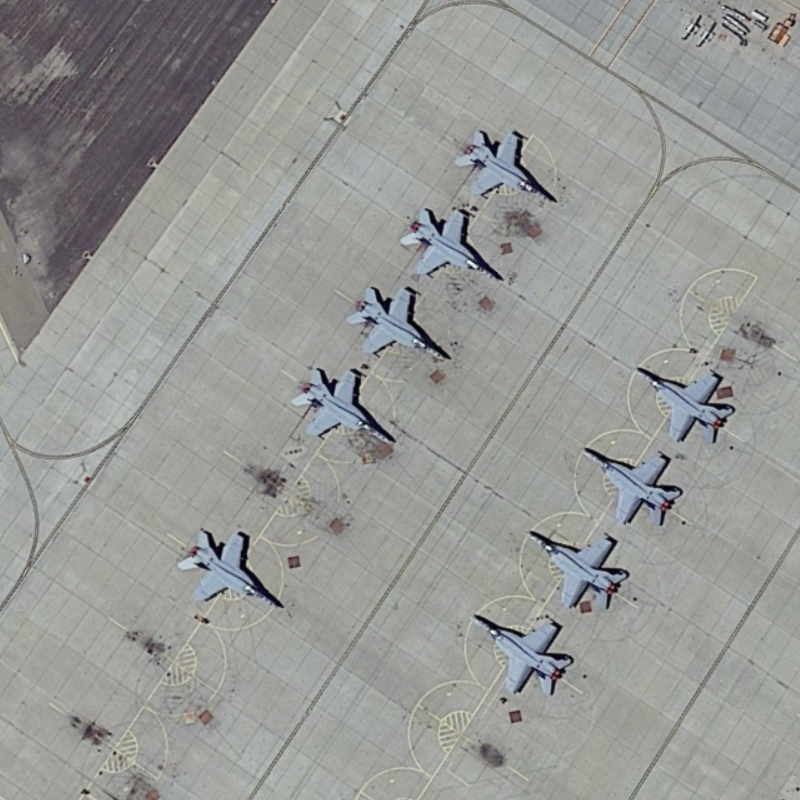A16: (173, 524, 287, 617), (464, 608, 577, 701), (518, 526, 633, 615), (283, 363, 402, 449), (630, 359, 738, 449), (578, 442, 685, 531), (344, 283, 454, 367), (392, 204, 504, 283), (451, 125, 558, 207)
